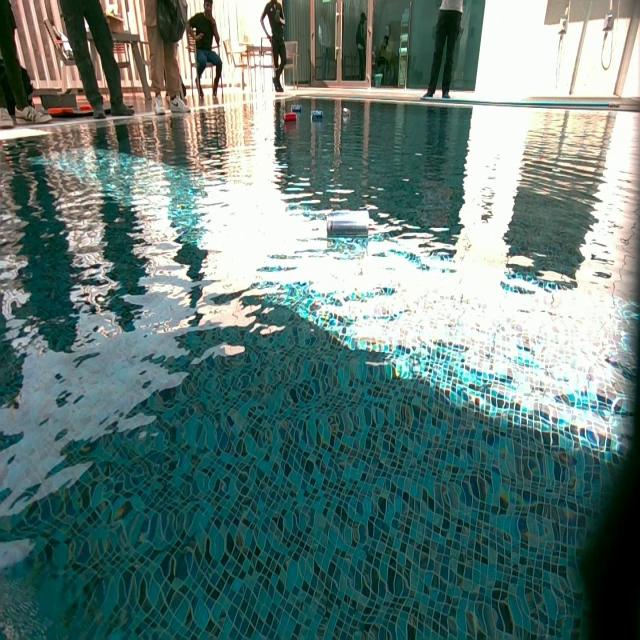Cans: (327, 208, 370, 238), (283, 111, 297, 125), (311, 109, 323, 120), (343, 106, 352, 117), (291, 105, 302, 114)
